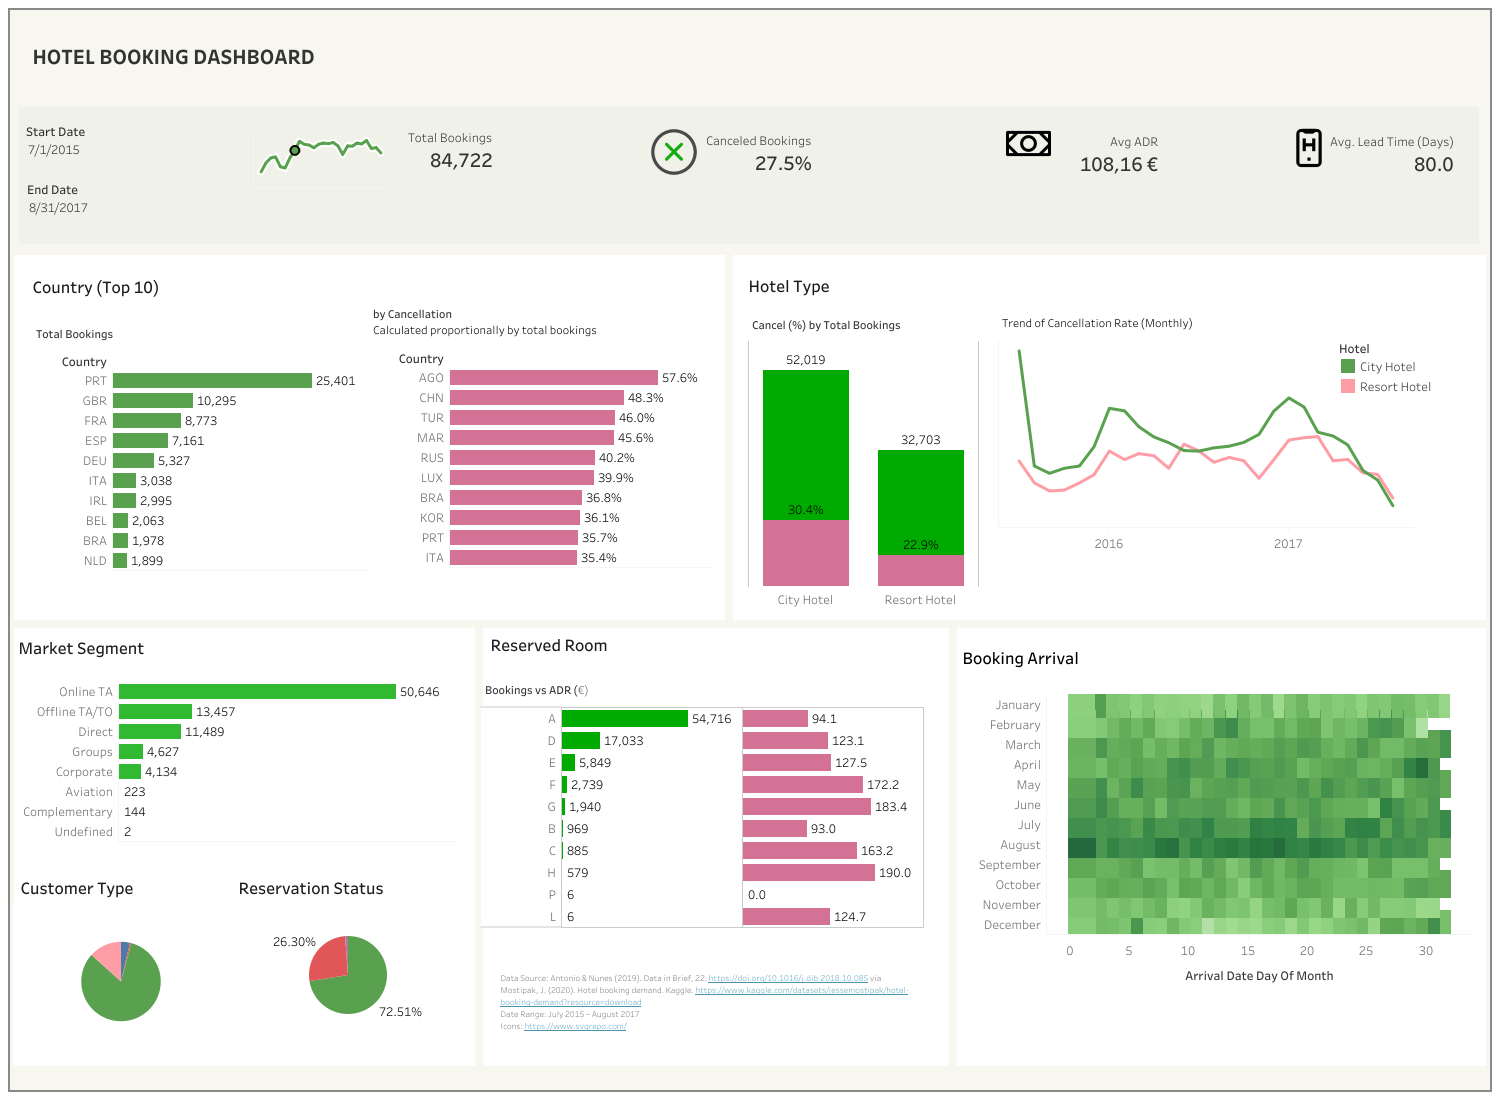

What the dashboard file says about the page in this screenshot:
{"tool":"tableau","page":{"name":"Dashboard","canvas":[1500,1100],"ordinal":0},"visuals":[{"type":"blank","box":[10,10,1480,241]},{"type":"text","box":[30,26,1101,60]},{"type":"worksheet","title":"KPI-Total Bookings","mark":"Automatic","box":[180,85,331,140]},{"type":"worksheet","title":"KPI-Cancellation Rate","mark":"Text","box":[511,85,331,140]},{"type":"worksheet","title":"KPI-Avg ADR","mark":"Automatic","box":[842,85,331,140]},{"type":"worksheet","title":"KPI-Avg Lead Time","mark":"Automatic","box":[1173,85,330,140]},{"type":"blank","box":[19,107,1460,137]},{"type":"parameter","param":"[Parameters].[Parameter 1]","box":[26,121,160,52]},{"type":"image","param":"C:/Users/Afifa/Downloads/money-svgrepo-com.svg","box":[965,121,59,45]},{"type":"image","param":"C:/Users/Afifa/Downloads/hotel-mobile-svgrepo-com.svg","box":[1218,128,43,40]},{"type":"image","param":"C:/Users/Afifa/Downloads/cancel-delete-remove-svgrepo-com.svg","box":[583,129,46,46]},{"type":"worksheet","title":"Total Bookings Trend","mark":"Automatic","rows":["Calculation_1470706804479516677"],"cols":["reservation_status_date"],"box":[253,155,135,66]},{"type":"parameter","param":"[Parameters].[Parameter 2]","box":[27,179,160,52]},{"type":"blank","box":[10,251,719,373]},{"type":"blank","box":[729,251,761,373]},{"type":"text","box":[746,254,163,63]},{"type":"text","box":[30,264,217,44]},{"type":"worksheet","title":"Top 10 Countries by Cancellation (Proporsional)","mark":"Automatic","rows":["country"],"cols":["Calculation_1470706804482387975"],"box":[369,300,343,320]},{"type":"worksheet","title":"Trend – Cancellation Over Time","mark":"Automatic","rows":["Calculation_1470706804473610244"],"cols":["reservation_status_date"],"box":[998,308,415,249]},{"type":"worksheet","title":"Cancellation by Hotel Type","mark":"Bar","rows":["Calculation_1470706804479516677","Calculation_1470706804479696902"],"cols":["hotel"],"box":[748,311,231,298]},{"type":"worksheet","title":"Total Bookings by Country","mark":"Automatic","rows":["country"],"cols":["Calculation_1470706804479516677"],"box":[32,320,338,307]},{"type":"legend","title":"Trend – Cancellation Over Time","param":"[federated.0ca4olu155b2ar1801b0r00wrxcj].[none:hotel:nk]","box":[1338,337,140,76]},{"type":"text","box":[488,607,205,74]},{"type":"text","box":[16,610,205,74]},{"type":"blank","box":[10,624,469,446]},{"type":"blank","box":[479,624,474,446]},{"type":"blank","box":[953,624,537,446]},{"type":"text","box":[960,631,282,52]},{"type":"worksheet","title":"Market Segment - Nested Bar (Cancellation Rate) (2)","mark":"Bar","rows":["market_segment"],"cols":["Calculation_1470706804479516677"],"box":[18,666,440,180]},{"type":"worksheet","title":"Reserved Room – Bookings & ADR","mark":"Bar","rows":["reserved_room_type"],"cols":["Calculation_1470706804479516677","adr"],"box":[481,675,449,354]},{"type":"worksheet","title":"Arrival Date – Monthly Pattern","mark":"Square","rows":["arrival_date_month"],"cols":["arrival_date_day_of_month"],"box":[966,679,507,340]},{"type":"text","box":[236,863,234,49]},{"type":"text","box":[18,870,186,35]},{"type":"worksheet","title":"Reservation Status Distribution","mark":"Pie","box":[239,882,218,171]},{"type":"worksheet","title":"Customer Type","mark":"Pie","box":[13,887,216,174]},{"type":"text","box":[498,945,433,113]}]}

Visuals, with their boxes in screenshot pixels (x1, y1, x2, y2), scaled from the page's 1500x1100 canvas onto the 1499x1099 screenshot:
blank: (left=10, top=10, right=1489, bottom=251)
text: (left=30, top=26, right=1130, bottom=86)
"KPI-Total Bookings" worksheet: (left=180, top=85, right=511, bottom=225)
"KPI-Cancellation Rate" worksheet (Text marks): (left=511, top=85, right=841, bottom=225)
"KPI-Avg ADR" worksheet: (left=841, top=85, right=1172, bottom=225)
"KPI-Avg Lead Time" worksheet: (left=1172, top=85, right=1498, bottom=225)
blank: (left=19, top=107, right=1478, bottom=244)
parameter: (left=26, top=121, right=186, bottom=173)
image: (left=964, top=121, right=1023, bottom=166)
image: (left=1217, top=128, right=1260, bottom=168)
image: (left=583, top=129, right=629, bottom=175)
"Total Bookings Trend" worksheet: (left=253, top=155, right=388, bottom=221)
parameter: (left=27, top=179, right=187, bottom=231)
blank: (left=10, top=251, right=729, bottom=623)
blank: (left=729, top=251, right=1489, bottom=623)
text: (left=746, top=254, right=908, bottom=317)
text: (left=30, top=264, right=247, bottom=308)
"Top 10 Countries by Cancellation (Proporsional)" worksheet: (left=369, top=300, right=712, bottom=619)
"Trend – Cancellation Over Time" worksheet: (left=997, top=308, right=1412, bottom=556)
"Cancellation by Hotel Type" worksheet (Bar marks): (left=748, top=311, right=978, bottom=608)
"Total Bookings by Country" worksheet: (left=32, top=320, right=370, bottom=626)
"Trend – Cancellation Over Time" legend: (left=1337, top=337, right=1477, bottom=413)
text: (left=488, top=606, right=693, bottom=680)
text: (left=16, top=609, right=221, bottom=683)
blank: (left=10, top=623, right=479, bottom=1069)
blank: (left=479, top=623, right=952, bottom=1069)
blank: (left=952, top=623, right=1489, bottom=1069)
text: (left=959, top=630, right=1241, bottom=682)
"Market Segment - Nested Bar (Cancellation Rate) (2)" worksheet (Bar marks): (left=18, top=665, right=458, bottom=845)
"Reserved Room – Bookings & ADR" worksheet (Bar marks): (left=481, top=674, right=929, bottom=1028)
"Arrival Date – Monthly Pattern" worksheet (Square marks): (left=965, top=678, right=1472, bottom=1018)
text: (left=236, top=862, right=470, bottom=911)
text: (left=18, top=869, right=204, bottom=904)
"Reservation Status Distribution" worksheet (Pie marks): (left=239, top=881, right=457, bottom=1052)
"Customer Type" worksheet (Pie marks): (left=13, top=886, right=229, bottom=1060)
text: (left=498, top=944, right=930, bottom=1057)
